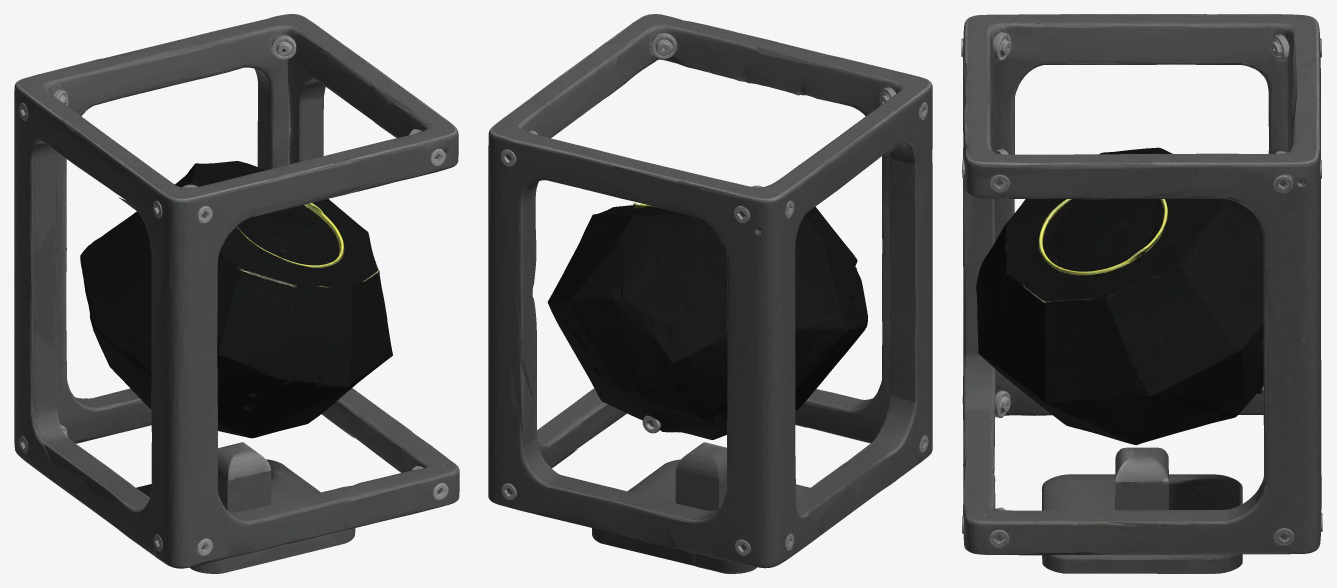
Rendered from how.glb.
3 views of the same model, side by side, from view 1: azimuth 30°, elevation 25°; view 2: azimuth 150°, elevation 25°; view 3: azimuth 270°, elevation 25° (orthographic). The views are drawn at different scales.
Bounding box in the file's own units: 1.4 × 1.9 × 1.4.
1 material, 1 textured.
